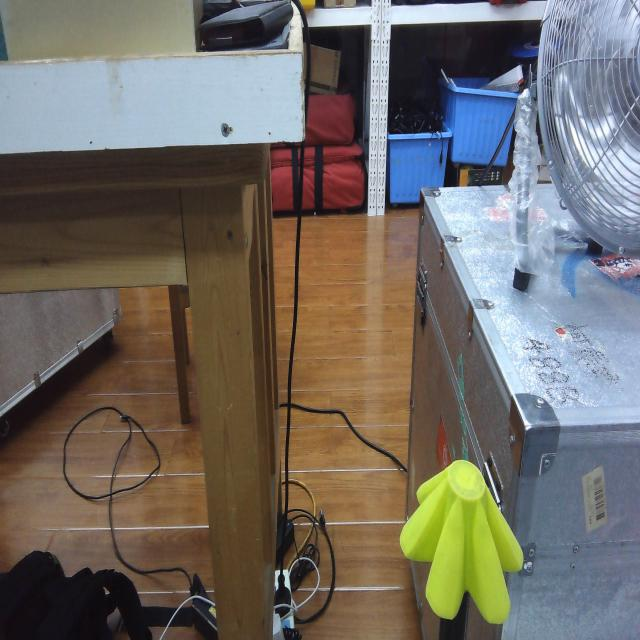Yellow-Stake-Head: (399, 460, 524, 624)
